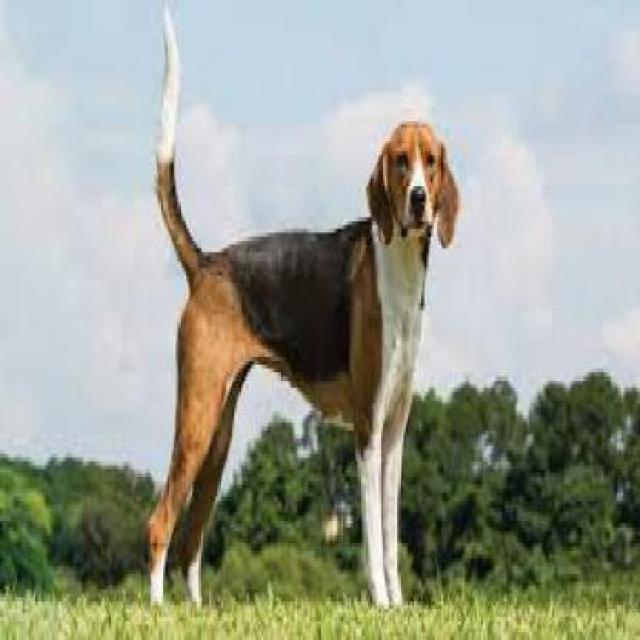Dog: (151, 6, 463, 614)
